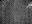person: (25, 2, 31, 8)
